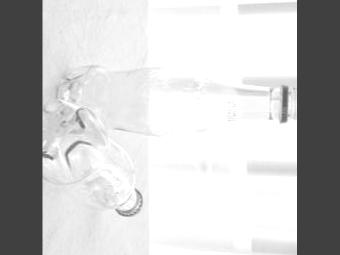bottle: (56, 62, 296, 130), (44, 100, 144, 216)
